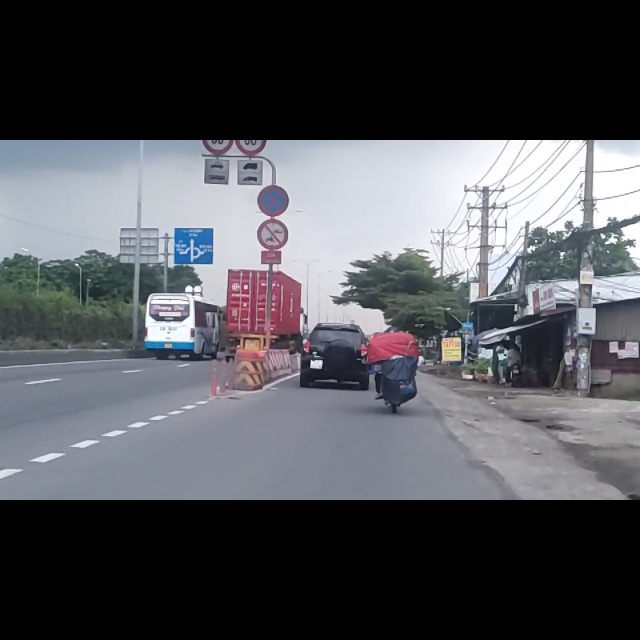bien_cam: (256, 79, 290, 135), (256, 138, 290, 194)
